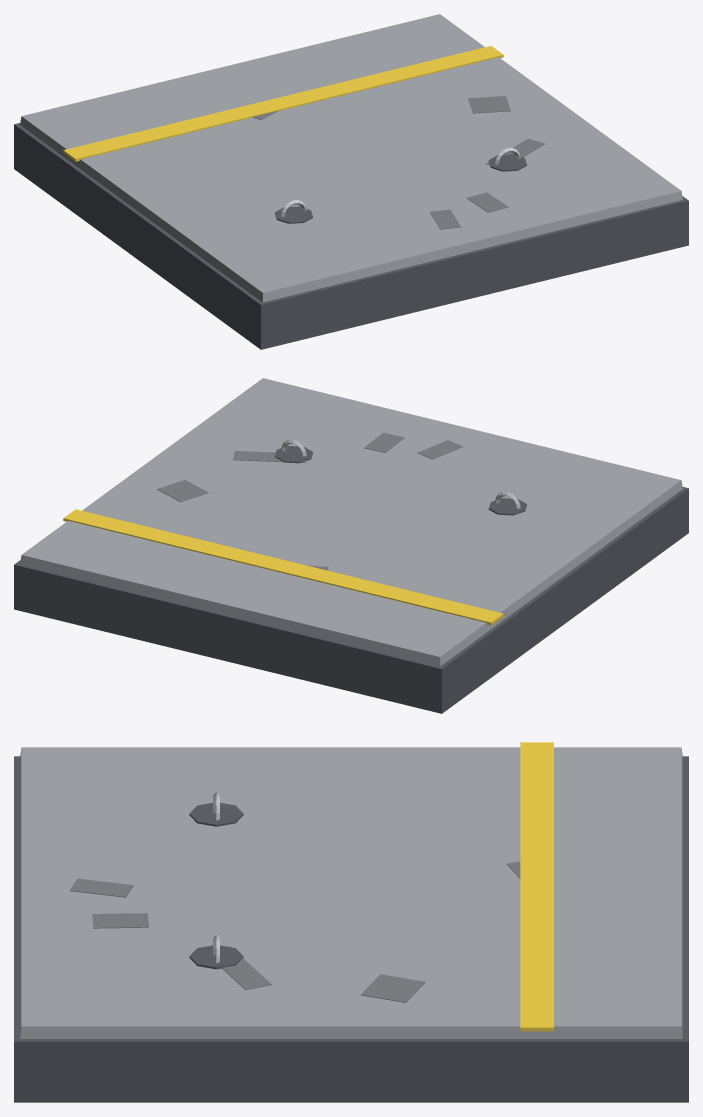
The model's file is SM_Floor_Hangar.glb.
The picture shows the model from 3 angles, top to bottom: view 1: azimuth 30°, elevation 25°; view 2: azimuth 150°, elevation 25°; view 3: azimuth 270°, elevation 25°; orthographic projection. The views are drawn at different scales.
Visible parts, largest first — view 1: SM_Floor_Hangar; view 2: SM_Floor_Hangar; view 3: SM_Floor_Hangar.
Boxes of the visible parts, bbox=[...] form: SM_Floor_Hangar: bbox=[14, 14, 688, 349]; SM_Floor_Hangar: bbox=[14, 378, 688, 713]; SM_Floor_Hangar: bbox=[14, 742, 688, 1102].
Bounding box in the file's own units: 2 × 0.31 × 2.
